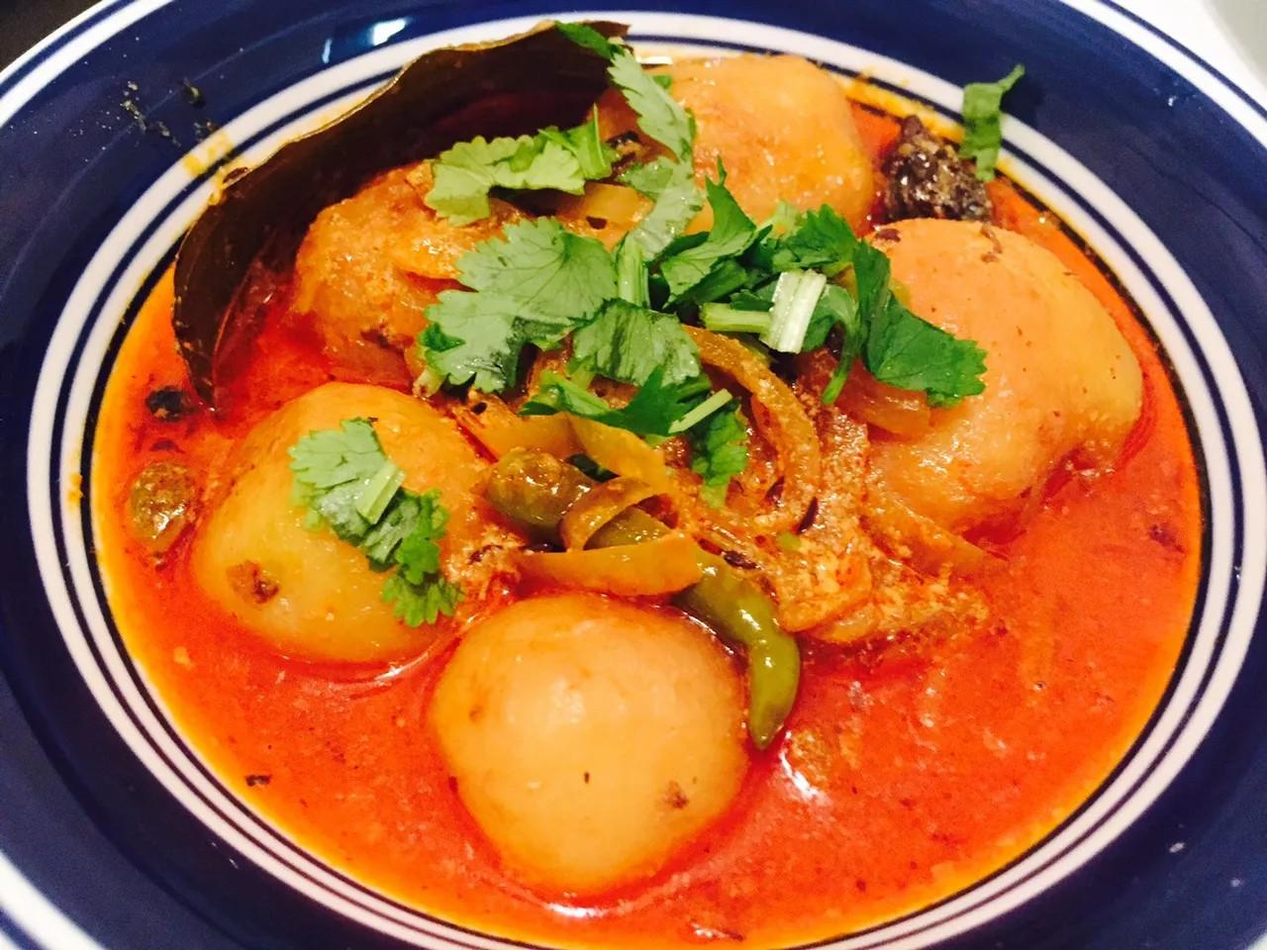DumAloo: (114, 44, 1201, 950)
